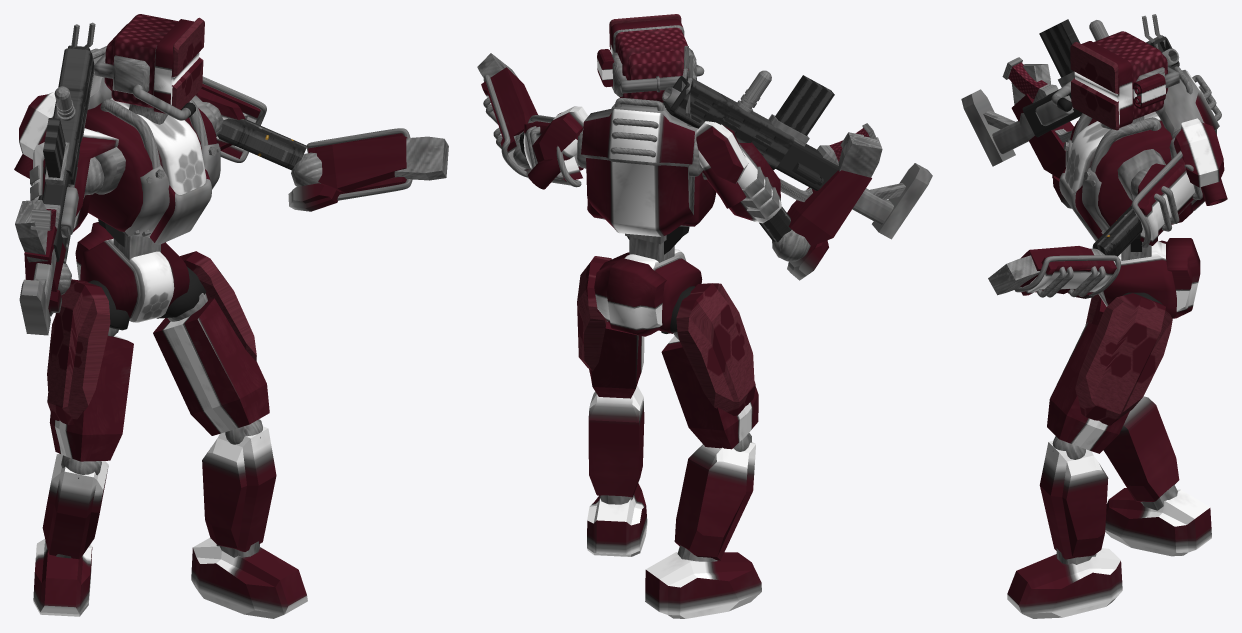
File: Robot 8 pose.fbx
The picture shows the model from 3 angles, left to right: view 1: azimuth 30°, elevation 25°; view 2: azimuth 150°, elevation 25°; view 3: azimuth 270°, elevation 25°; orthographic projection. The views are drawn at different scales.
Parts seen in each view (by area): view 1: Cube.019, Icosphere, Icosphere.001, Cube.001, Cube.005, Icosphere.002, Cube.020, Icosphere.007, Cube.012, Icosphere.003, Icosphere.005, Cube.023 (+6 smaller); view 2: Cube.019, Cube.001, Icosphere, Icosphere.003, Cube.020, Cube.005, Cube.023, Icosphere.002, Icosphere.001, Icosphere.006, Icosphere.007, Cube.012 (+6 smaller); view 3: Icosphere.001, Cube.019, Cube.005, Cube.001, Icosphere.002, Cube.012, Cube.023, Icosphere.005, Icosphere.003, Cube.020, Icosphere.007, Cylinder.003 (+5 smaller).
Part boxes in pixels (<box>): Cube.019: <box>69,22,220,244</box>; Icosphere: <box>47,279,133,461</box>; Icosphere.001: <box>153,251,269,435</box>; Cube.001: <box>19,45,94,335</box>; Cube.005: <box>94,14,204,120</box>; Icosphere.002: <box>202,419,276,557</box>; Cube.020: <box>75,222,206,330</box>; Icosphere.007: <box>288,128,412,211</box>; Cube.012: <box>191,538,307,618</box>; Icosphere.003: <box>42,453,108,559</box>; Icosphere.005: <box>196,76,307,170</box>; Cube.023: <box>33,539,92,616</box>; Cube.019: <box>577,45,716,236</box>; Cube.001: <box>662,70,932,239</box>; Icosphere: <box>661,283,758,449</box>; Icosphere.003: <box>674,433,755,561</box>; Cube.020: <box>594,249,702,336</box>; Cube.005: <box>597,14,704,102</box>; Cube.023: <box>645,552,761,618</box>; Icosphere.002: <box>588,385,644,504</box>; Icosphere.001: <box>577,256,644,398</box>; Icosphere.006: <box>772,170,871,280</box>; Icosphere.007: <box>481,67,537,179</box>; Cube.012: <box>587,483,647,556</box>; Icosphere.001: <box>1047,293,1172,453</box>; Cube.019: <box>1059,14,1221,241</box>; Cube.005: <box>1051,31,1179,130</box>; Cube.001: <box>961,19,1179,166</box>; Icosphere.002: <box>1039,436,1108,564</box>; Cube.012: <box>1007,548,1122,618</box>; Cube.023: <box>1105,488,1211,556</box>; Icosphere.005: <box>1092,150,1202,256</box>; Icosphere.003: <box>1103,396,1179,510</box>; Cube.020: <box>1098,238,1200,318</box>; Icosphere.007: <box>1014,246,1120,298</box>; Cylinder.003: <box>1173,118,1227,205</box>.
Bounding box in the file's own units: 1055 × 1283 × 577.
